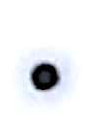cancer: (11, 44, 81, 112)
